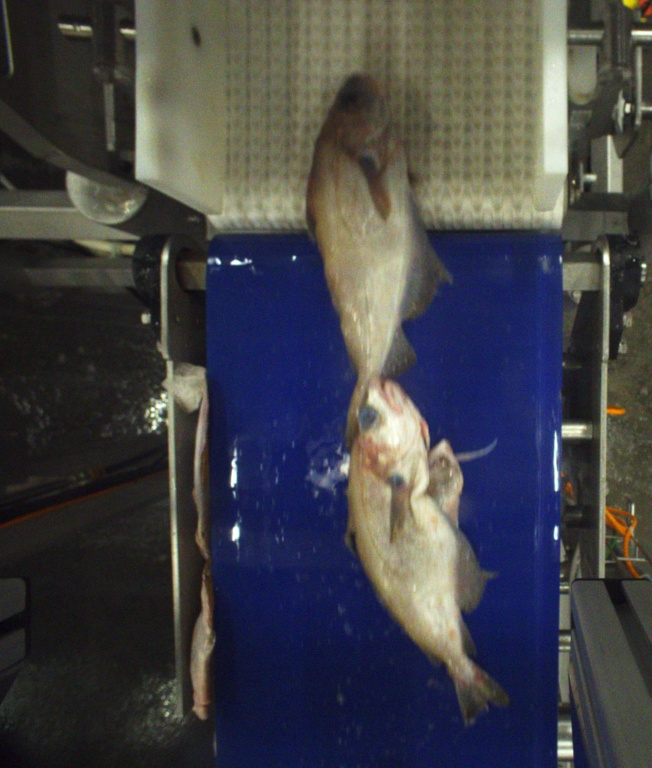BIB: (347, 373, 509, 722)
